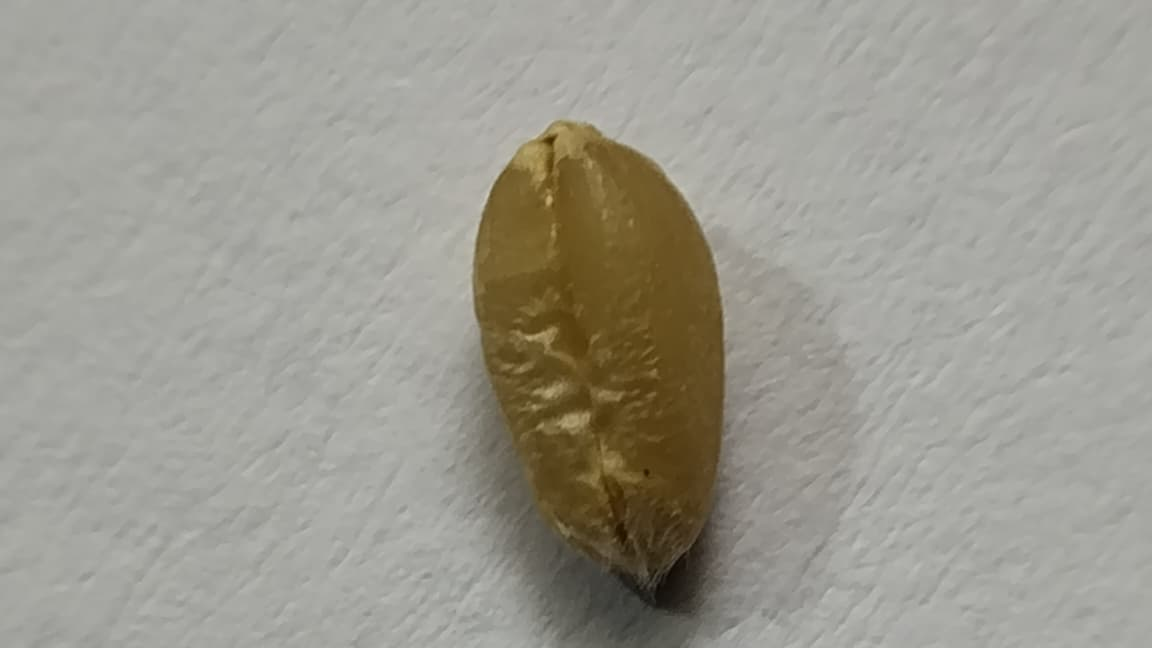healthy: (473, 120, 724, 581)
